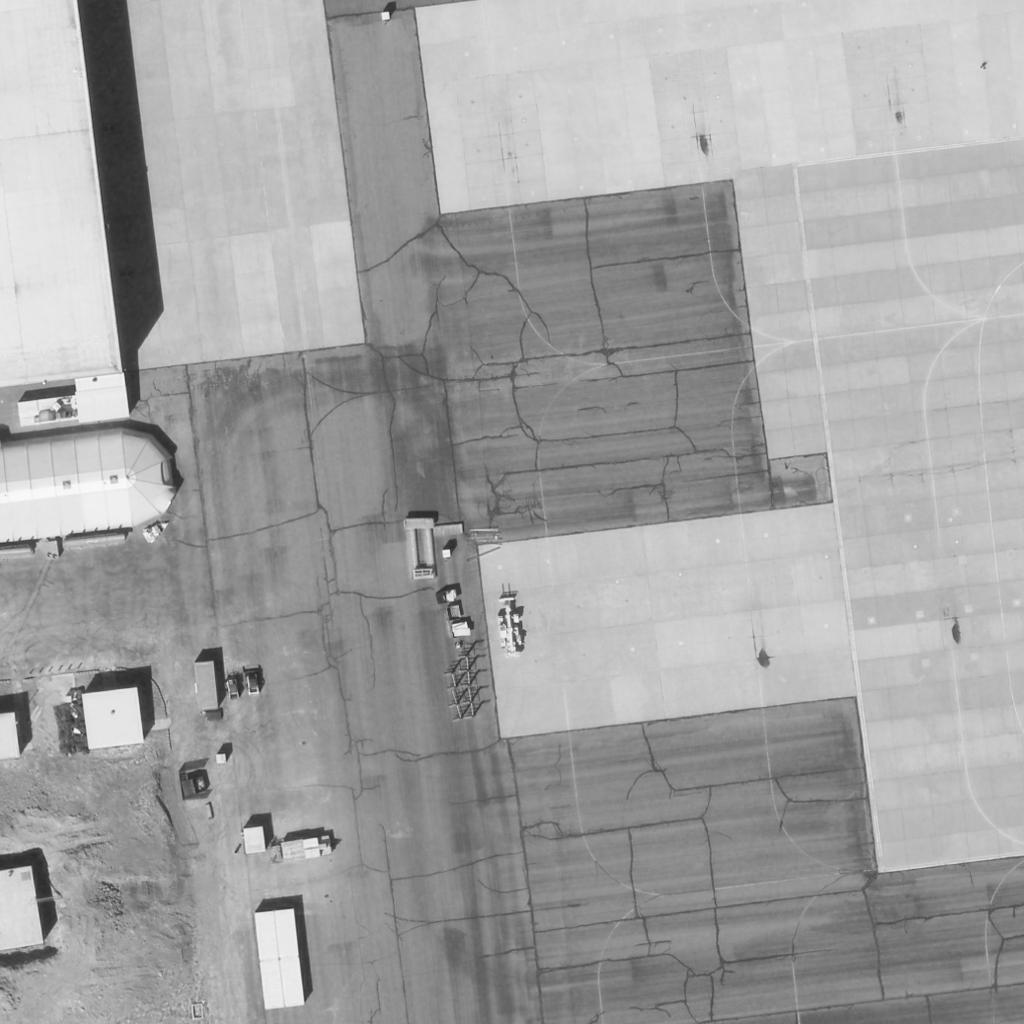vehicle: (495, 597, 527, 655)
